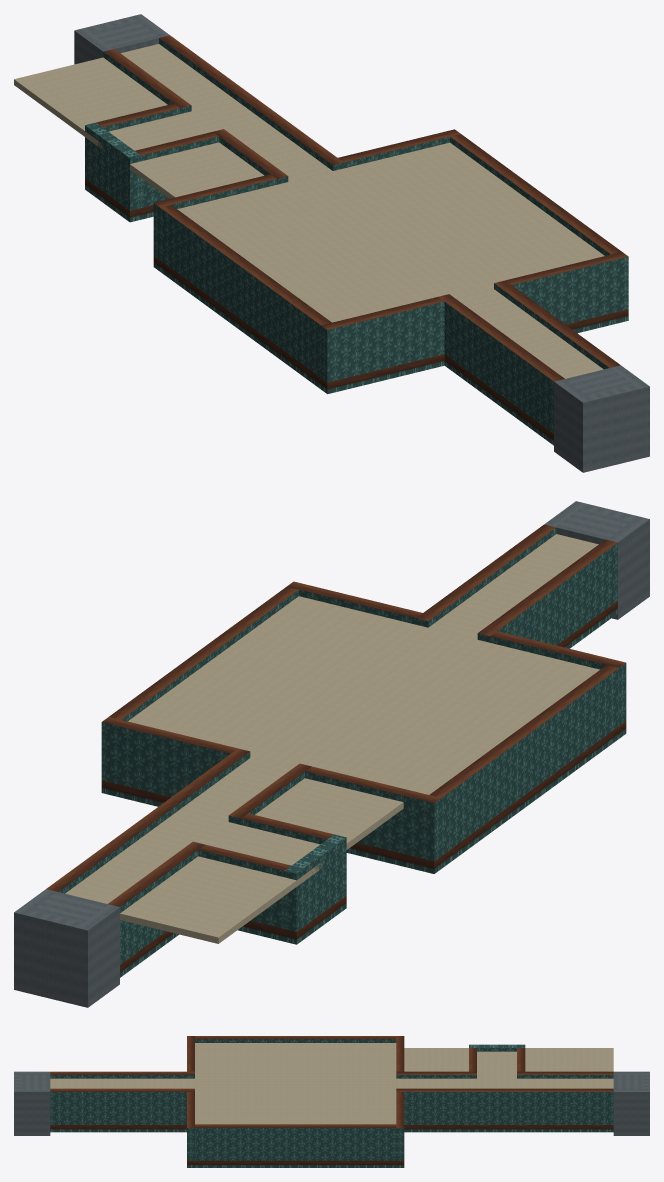
The model's file is level2.fbx.
The picture shows the model from 3 angles, top to bottom: view 1: azimuth 30°, elevation 25°; view 2: azimuth 150°, elevation 25°; view 3: azimuth 270°, elevation 25°; orthographic projection. The views are drawn at different scales.
Parts seen in each view (by area): view 1: Cube.003, Cube.029, Cube.011, Cube.020, Cube, Cube.021, Cube.005, Cube.002, Cube.028, Cube.012, Cube.001, Cube.030 (+12 smaller); view 2: Cube.003, Cube.029, Cube.011, Cube, Cube.023, Cube.014, Cube.022, Cube.002, Cube.028, Cube.012, Cube.031, Cube.001 (+12 smaller); view 3: Cube.003, Cube.012, Cube.029, Cube.001, Cube.030, Cube.024, Cube.002, Cube.011, Cube.006, Cube.016, Cube, Cube.031 (+11 smaller).
Part boxes in pixels (box(x1,y1,x2,y2)): Cube.003: box(177, 142, 604, 322); Cube.029: box(14, 44, 332, 198); Cube.011: box(160, 205, 331, 389); Cube.020: box(321, 297, 444, 394); Cube: box(438, 294, 564, 445); Cube.021: box(505, 252, 628, 333); Cube.005: box(576, 382, 649, 472); Cube.002: box(455, 289, 603, 378); Cube.028: box(85, 122, 140, 222); Cube.012: box(450, 134, 621, 255); Cube.001: box(494, 280, 620, 369); Cube.030: box(159, 35, 279, 123); Cube.003: box(128, 596, 599, 794); Cube.029: box(65, 758, 403, 943); Cube.011: box(429, 665, 619, 868); Cube: box(477, 539, 617, 648); Cube.023: box(101, 717, 237, 806); Cube.014: box(14, 907, 94, 1007); Cube.022: box(305, 766, 441, 873); Cube.002: box(428, 534, 598, 639); Cube.028: box(284, 834, 346, 944); Cube.012: box(109, 586, 298, 721); Cube.031: box(108, 841, 204, 977); Cube.001: box(416, 524, 556, 627); Cube.003: box(195, 1043, 396, 1124); Cube.012: box(195, 1124, 396, 1167); Cube.029: box(396, 1048, 613, 1088); Cube.001: box(50, 1088, 194, 1132); Cube.030: box(477, 1088, 613, 1132); Cube.024: box(396, 1088, 476, 1132); Cube.002: box(50, 1078, 194, 1088); Cube.011: box(195, 1036, 396, 1042); Cube.006: box(22, 1089, 50, 1135); Cube.016: box(613, 1089, 641, 1135); Cube: box(50, 1071, 194, 1078); Cube.031: box(517, 1071, 613, 1078).
Bounding box in the file's own units: 10800 × 2400 × 31600.
4 materials, 4 textured.
